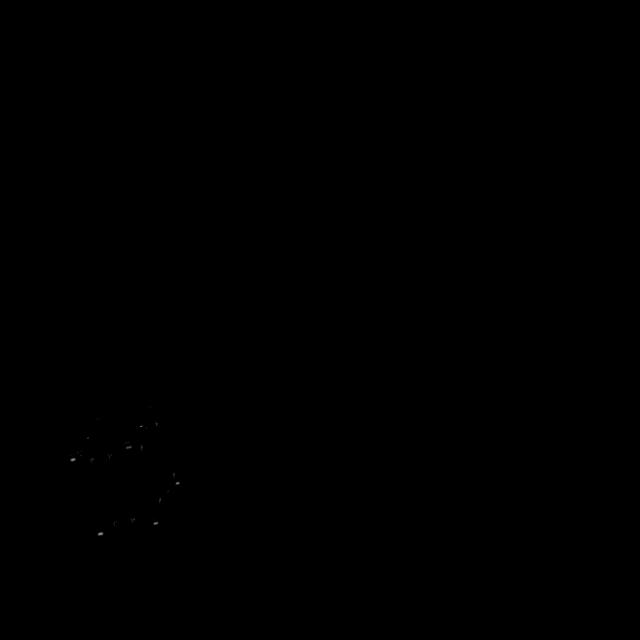satellite: (61, 402, 190, 548)
